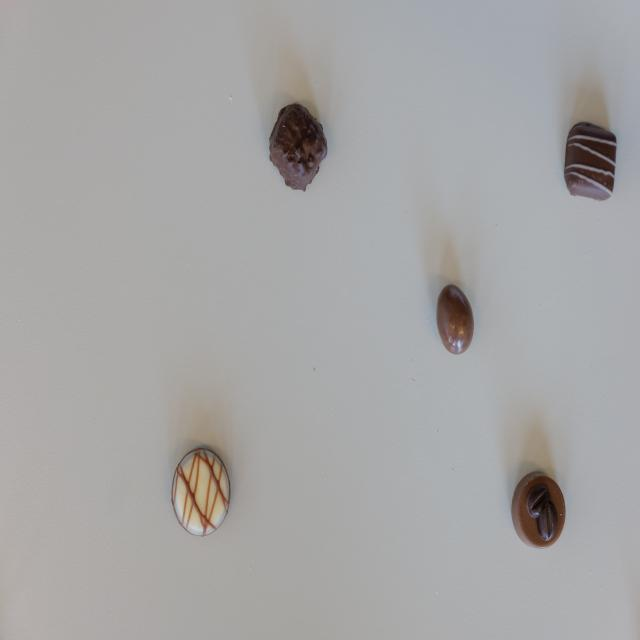Arabia: (512, 470, 566, 550)
Creme_brulee: (172, 448, 230, 539)
Jelly_Milk: (436, 284, 474, 356)
Stracciatella: (564, 123, 617, 202)
Tentation_noir: (268, 103, 328, 191)
